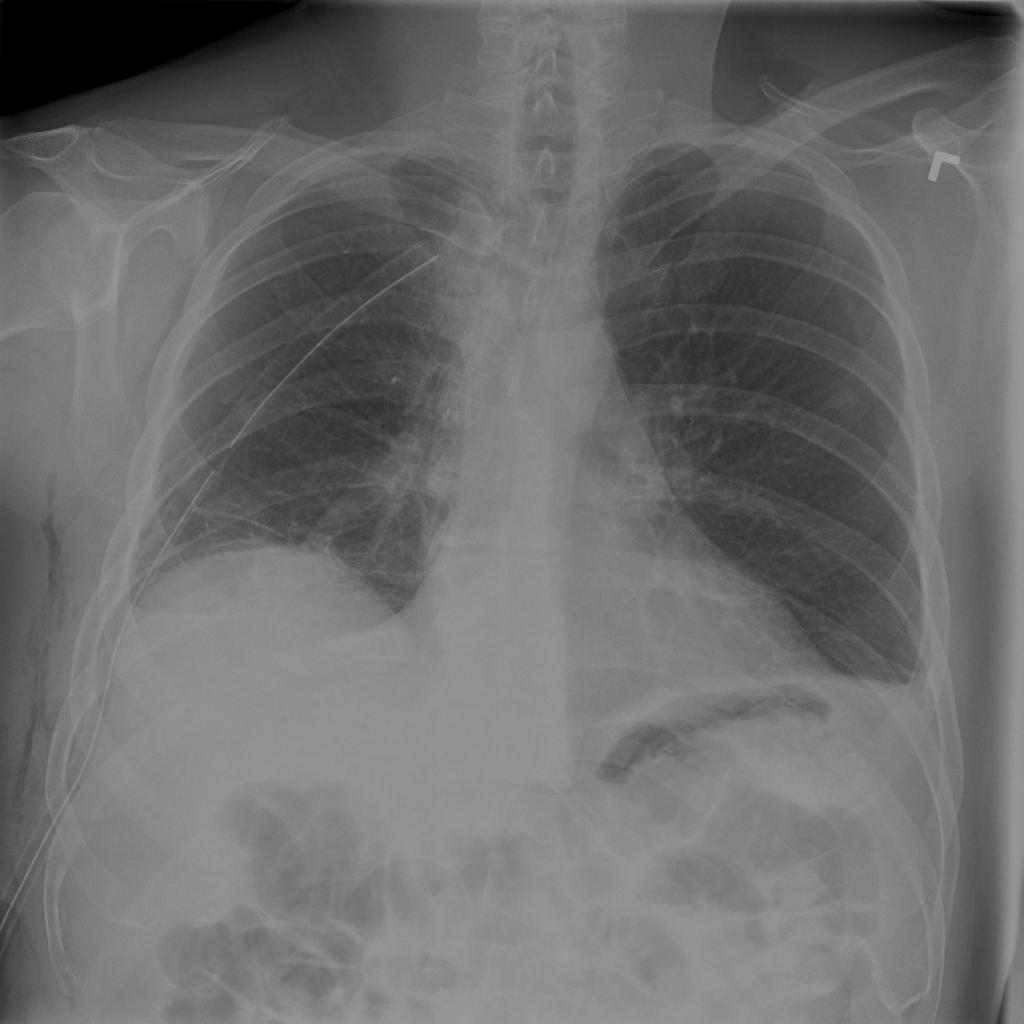nodule: (815, 376, 875, 422)
